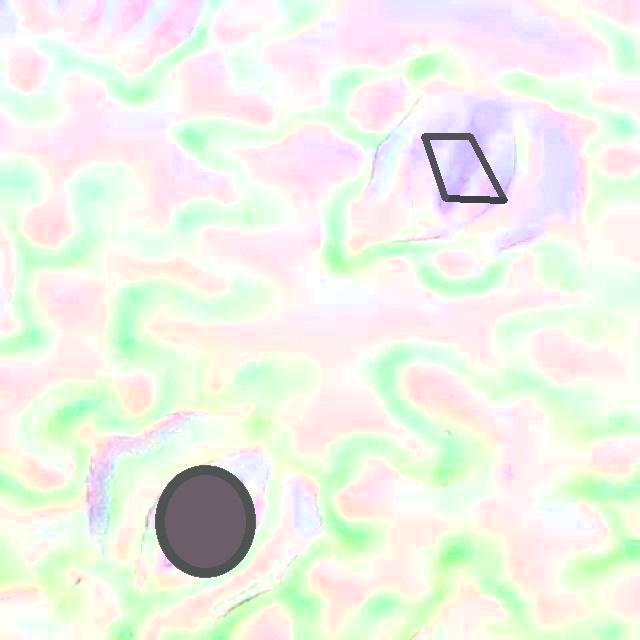open: (155, 464, 256, 577), (421, 133, 506, 201)
